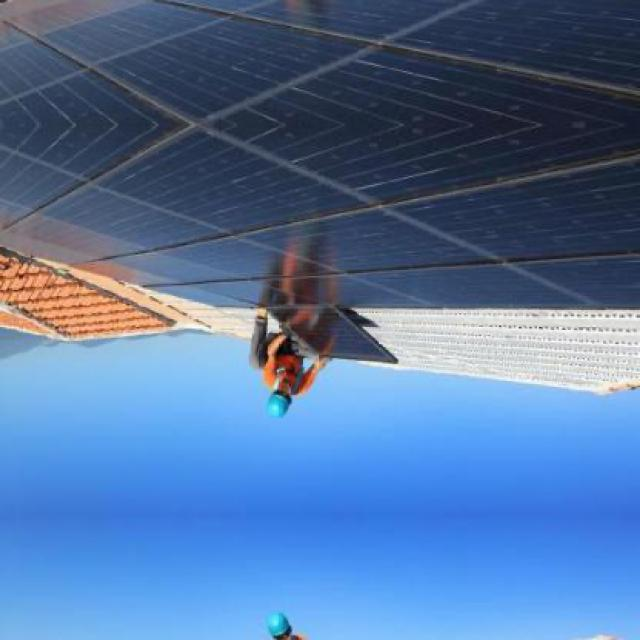con casco: (252, 369, 312, 429)
